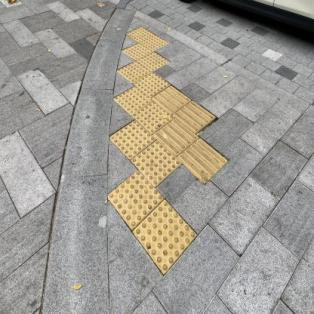Podoctatil: (106, 21, 232, 280)
